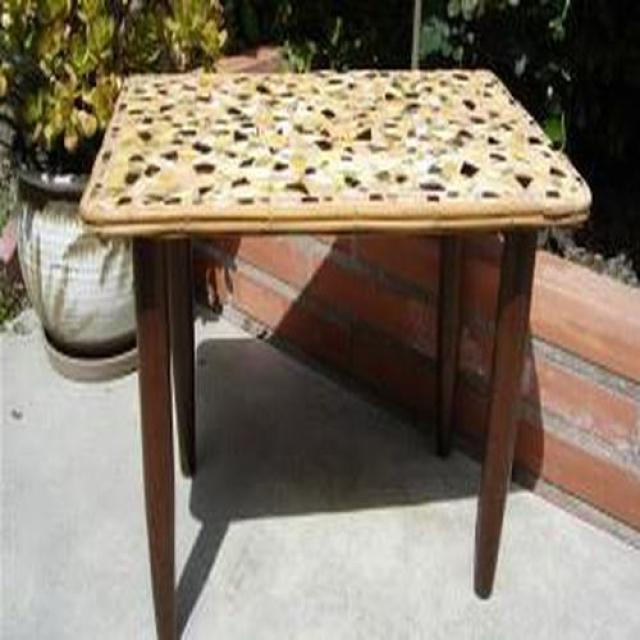table: (78, 70, 593, 640)
